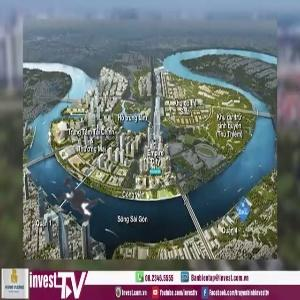drone: (33, 154, 126, 247)
